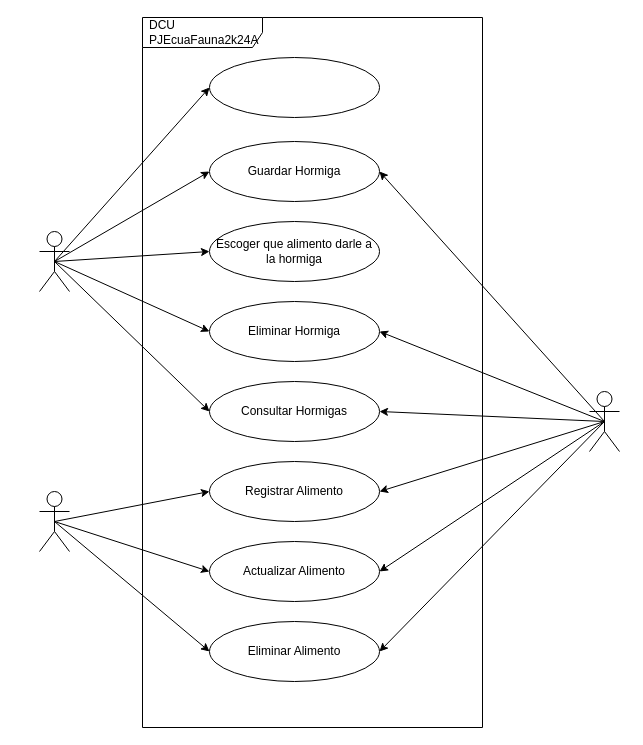
Image size: 643x745. Some labels were removed from this diagram. The centre of each missing label's shape, as x and y in pixels:
Administrador: point (54, 521)
Crear Hormiga: point (294, 87)
Sistema: point (604, 421)
Usuario: point (54, 261)
